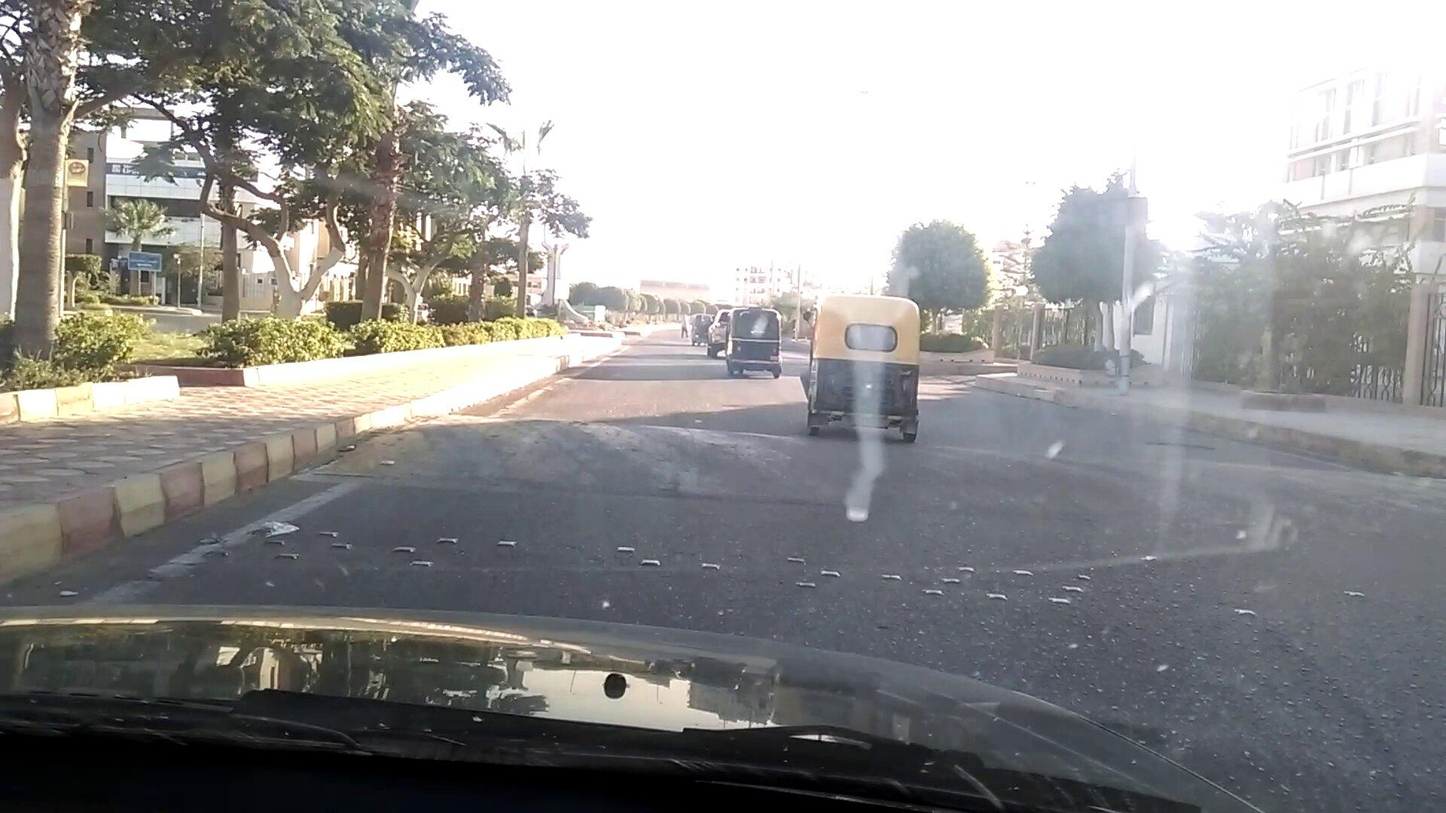Bump: (377, 433, 1446, 531)
